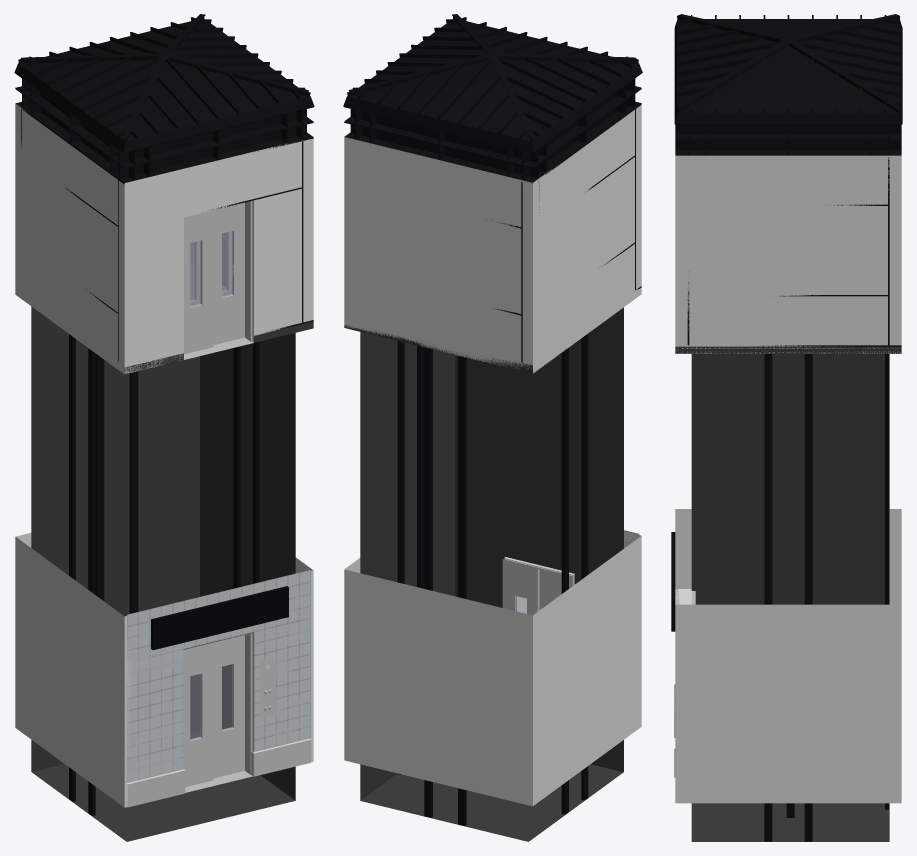
File: elevator_a.FBX
The picture shows the model from 3 angles, left to right: view 1: azimuth 30°, elevation 25°; view 2: azimuth 150°, elevation 25°; view 3: azimuth 270°, elevation 25°; orthographic projection. The views are drawn at different scales.
Visible parts, largest first — view 1: core_mid, ground_col, elevator_frame_a, core_lower, subway_col, platform_wall_a, elevator_sign_b, door_b_02, door_a_02, door_b_01, door_a_01, elevator_frame_b (+3 smaller); view 2: subway_col, ground_col, core_mid, elevator_frame_a, core_lower, door_b_02, door_b_01; view 3: subway_col, ground_col, elevator_frame_a, core_mid, core_lower, elevator_sign_b.
Part boxes in pixels (x1,y1,x2,y2): core_mid: (31,306,295,582); ground_col: (15,103,313,374); elevator_frame_a: (14,14,314,374); core_lower: (31,497,295,841); subway_col: (15,533,313,807); platform_wall_a: (127,570,311,807); elevator_sign_b: (151,586,288,650); door_b_02: (213,635,244,778); door_a_02: (213,202,244,345); door_b_01: (184,643,213,786); door_a_01: (184,210,213,354); elevator_frame_b: (185,633,275,792); subway_col: (344,531,641,806); ground_col: (344,105,641,373); core_mid: (360,307,623,592); elevator_frame_a: (343,14,642,373); core_lower: (360,498,623,841); door_b_02: (504,559,539,615); door_b_01: (539,566,574,609); subway_col: (675,509,901,803); ground_col: (675,155,901,353); elevator_frame_a: (674,14,902,353); core_mid: (691,354,889,599); core_lower: (691,514,889,841); elevator_sign_b: (671,532,675,631).
Bounding box in the file's own units: 414 × 1526 × 420.
